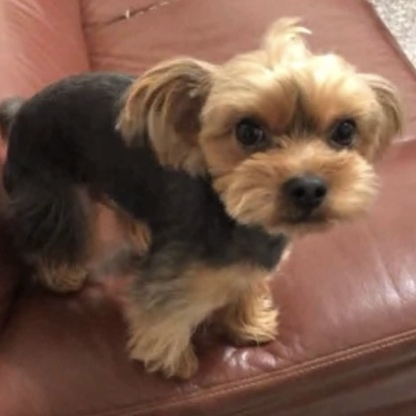yokshine: (5, 17, 404, 383)
